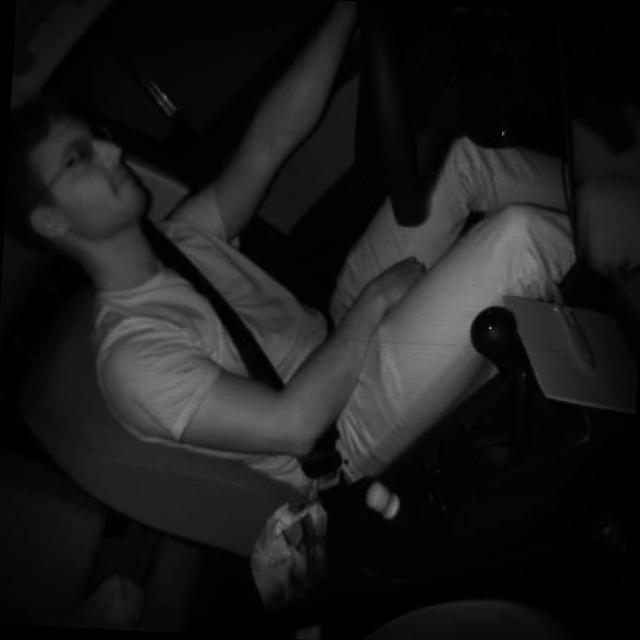pen: (542, 270, 604, 376)
